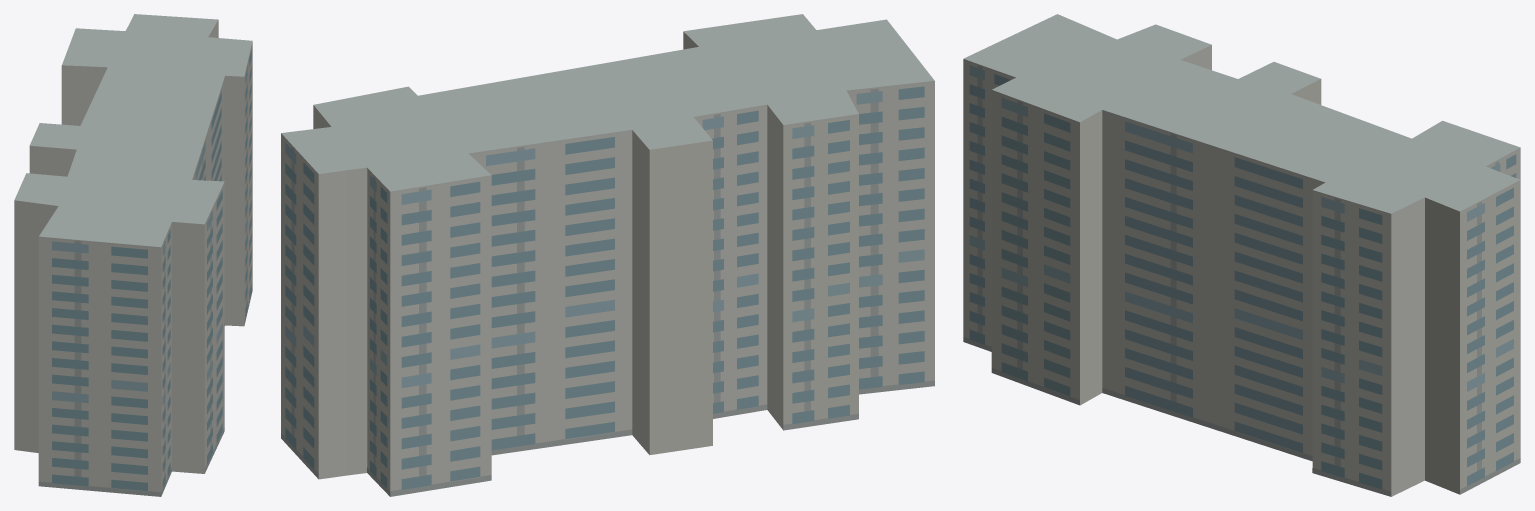
File: residential-fa43ce0d-d404-43fd-b301-9a1d4672b78e.glb
3 views of the same model, side by side, from view 1: azimuth 30°, elevation 25°; view 2: azimuth 150°, elevation 25°; view 3: azimuth 270°, elevation 25° (orthographic). The views are drawn at different scales.
Visible parts, largest first — view 1: residential-fa43ce0d-d404-43fd-b301-9a1d4672b78e.tmp; view 2: residential-fa43ce0d-d404-43fd-b301-9a1d4672b78e.tmp; view 3: residential-fa43ce0d-d404-43fd-b301-9a1d4672b78e.tmp.
Boxes of the visible parts, <box> form: residential-fa43ce0d-d404-43fd-b301-9a1d4672b78e.tmp: <box>14,14,252,496</box>; residential-fa43ce0d-d404-43fd-b301-9a1d4672b78e.tmp: <box>281,14,934,496</box>; residential-fa43ce0d-d404-43fd-b301-9a1d4672b78e.tmp: <box>963,14,1520,496</box>.
Size of the model in its own units: 74.15 by 49 by 87.43.
